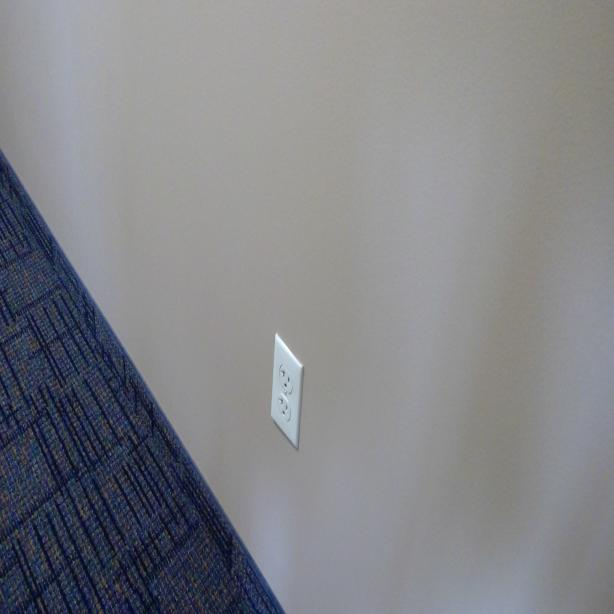typeb: (278, 362, 292, 394), (278, 395, 290, 423)
